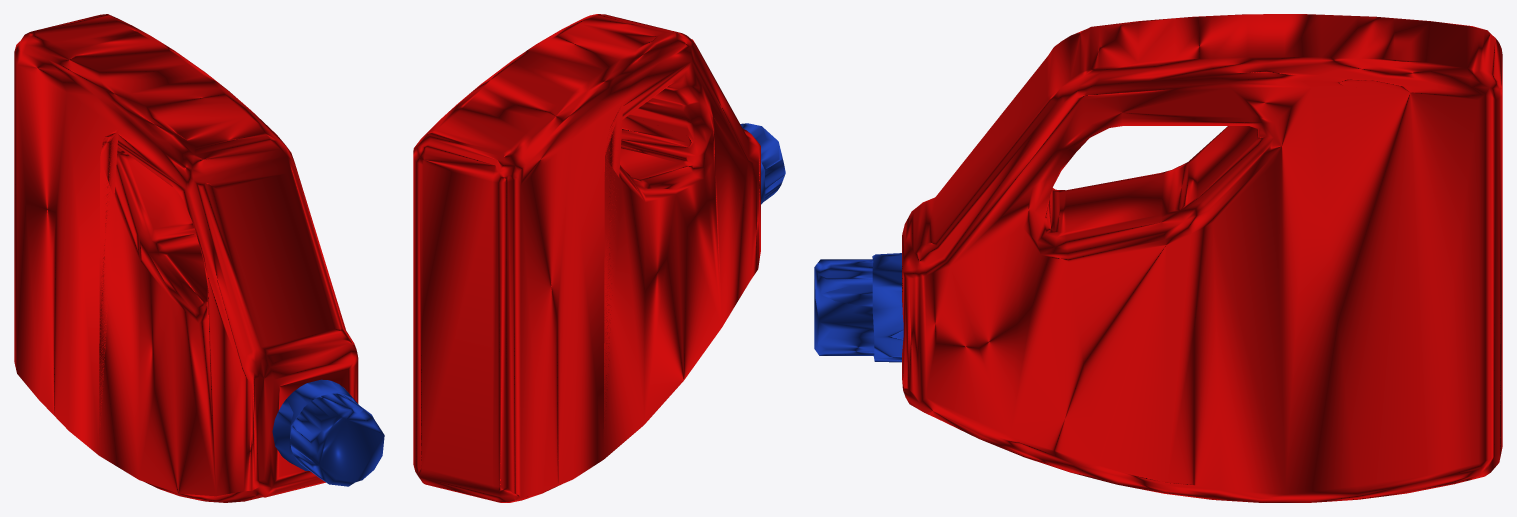
File: model_align.obj
The picture shows the model from 3 angles, left to right: view 1: azimuth 30°, elevation 25°; view 2: azimuth 150°, elevation 25°; view 3: azimuth 270°, elevation 25°; orthographic projection. The views are drawn at different scales.
Size of the model in its own units: 0.0401 by 0.14 by 0.196.
